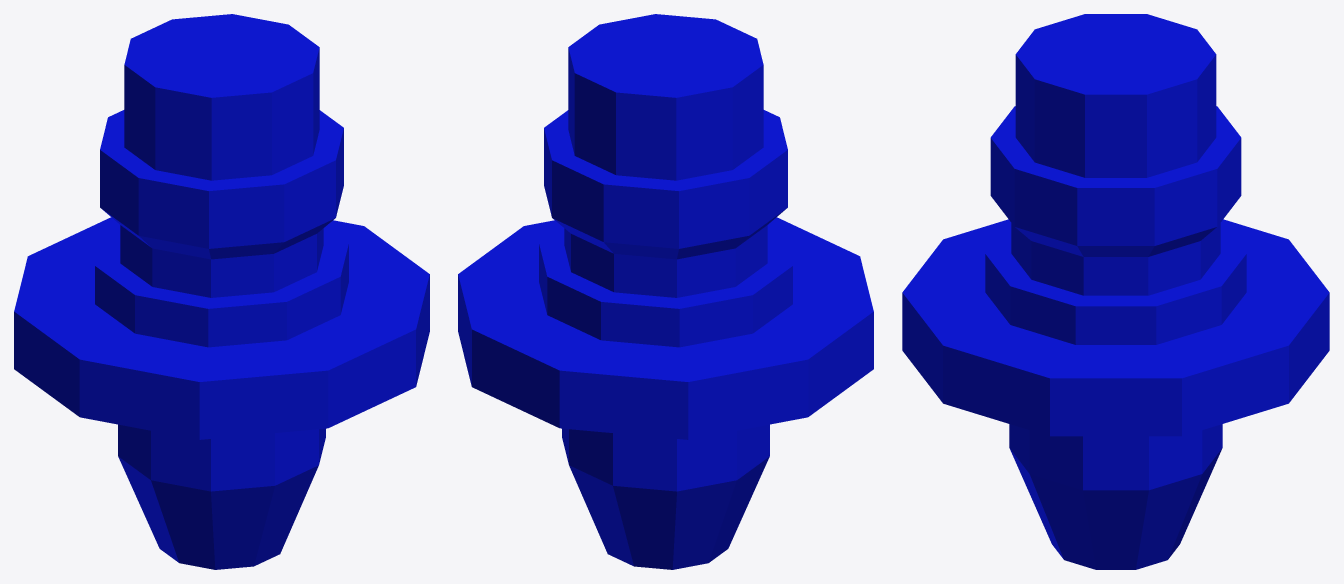
File: 1Bit.fbx
The picture shows the model from 3 angles, left to right: view 1: azimuth 30°, elevation 25°; view 2: azimuth 150°, elevation 25°; view 3: azimuth 270°, elevation 25°; orthographic projection.
Visible parts, largest first — view 1: 1Bit; view 2: 1Bit; view 3: 1Bit.
Boxes of the visible parts, x1,y1,x2,y2 form: 1Bit: (14,14,429,569); 1Bit: (458,14,873,569); 1Bit: (902,14,1329,569).
Bounding box in the file's own units: 190 × 253 × 200.
